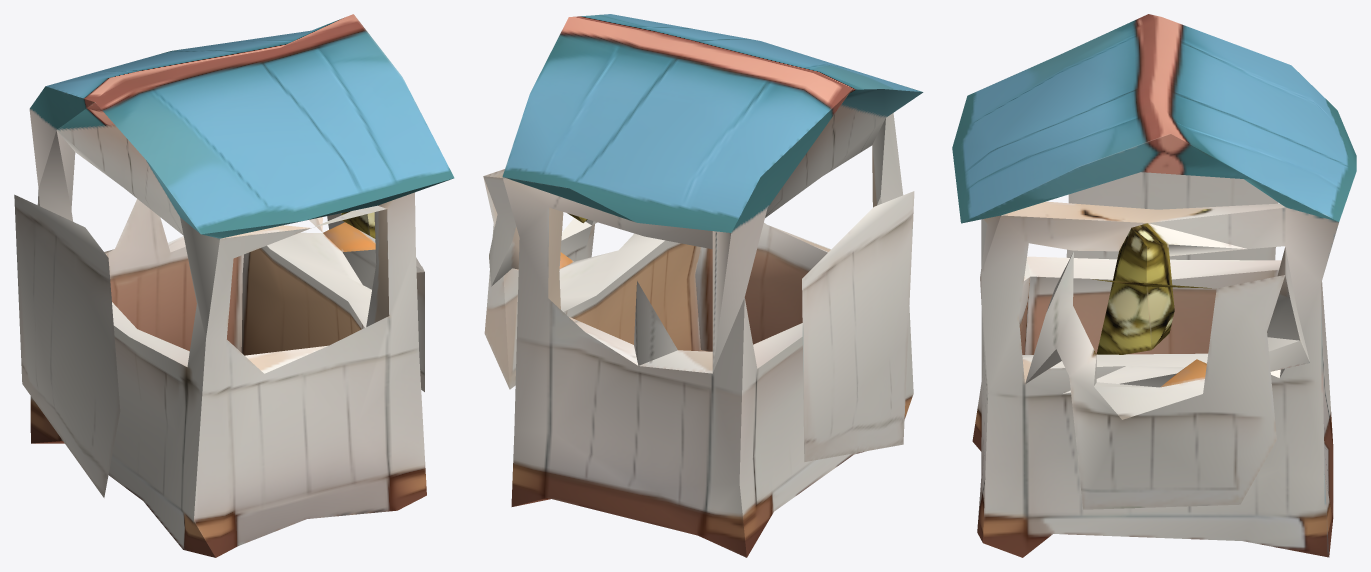
The model's file is beachhut-fishing-lantern.glb.
The picture shows the model from 3 angles, left to right: view 1: azimuth 30°, elevation 25°; view 2: azimuth 150°, elevation 25°; view 3: azimuth 270°, elevation 25°; orthographic projection. The views are drawn at different scales.
Visible parts, largest first — view 1: geometry_0; view 2: geometry_0; view 3: geometry_0.
Boxes of the visible parts, x1,y1,x2,y2 form: geometry_0: (14,14,454,557); geometry_0: (483,14,923,557); geometry_0: (952,14,1356,557).
Bounding box in the file's own units: 0.8135 × 1 × 0.843.
1 material, 1 textured.
